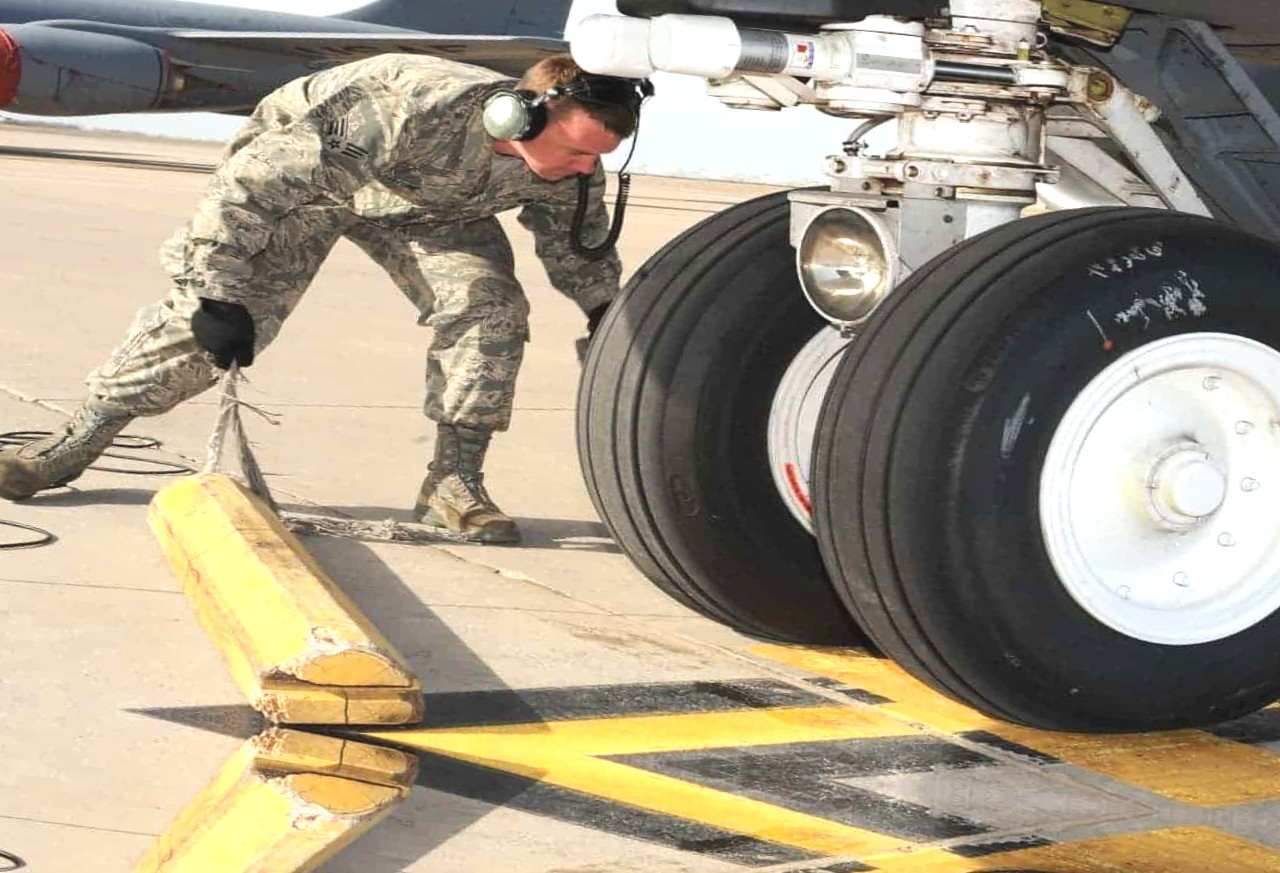chock: (126, 460, 449, 740), (101, 711, 425, 873)
wheel: (786, 177, 1280, 754), (558, 163, 936, 653)
